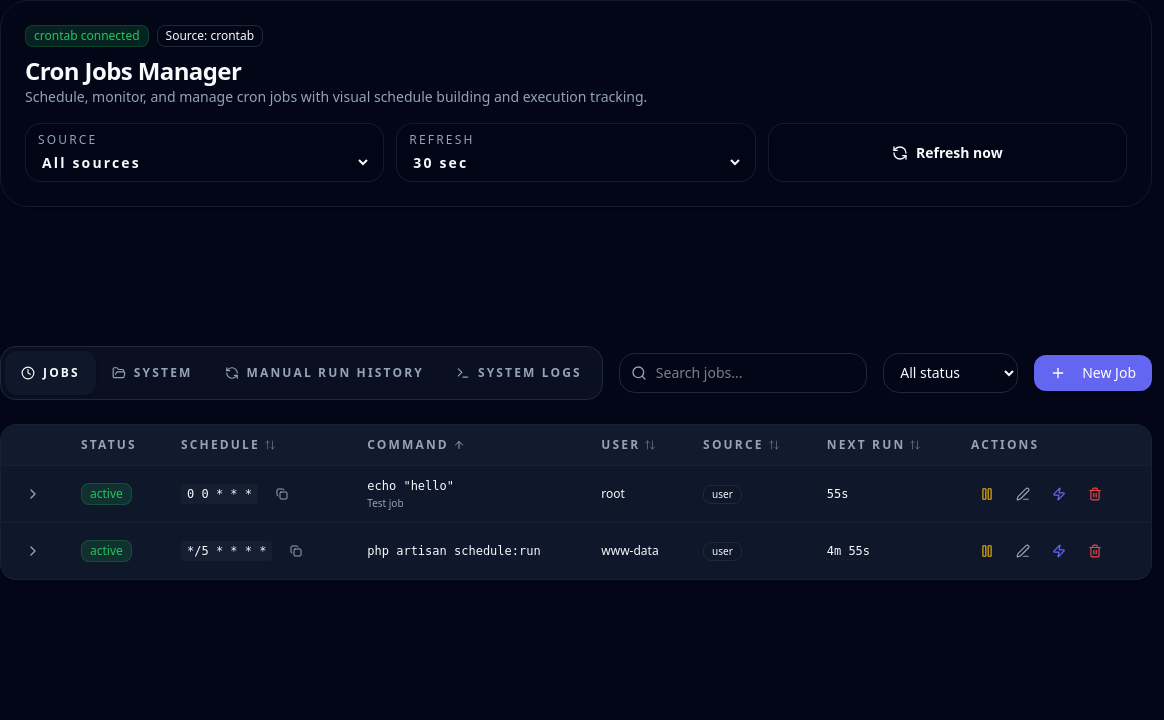
Scenario: CronsPage › exposes the view switcher as an accessible tablist
The image size is (1164, 720).
Expected: the panel named "jobs" is shown, [0,424,1152,580]
Click the tab "system logs" at point(519, 372), box [440,350,598,394]
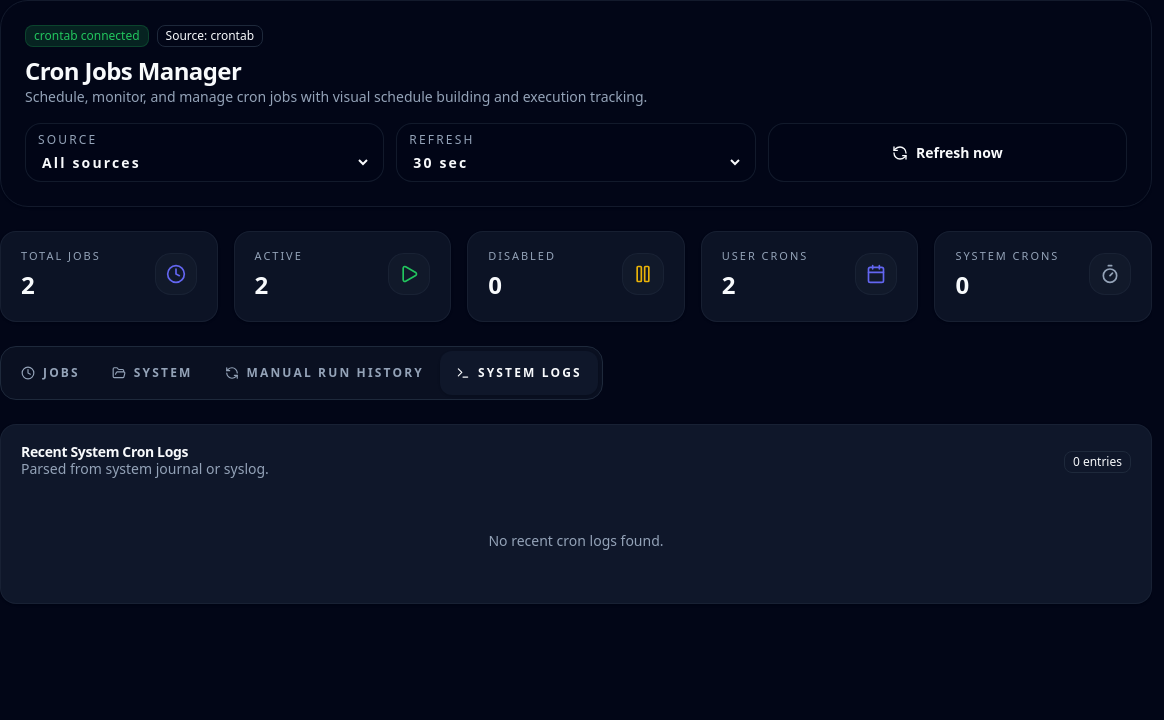
Expected: the panel named "system logs" is shown, [0,424,1152,604]
